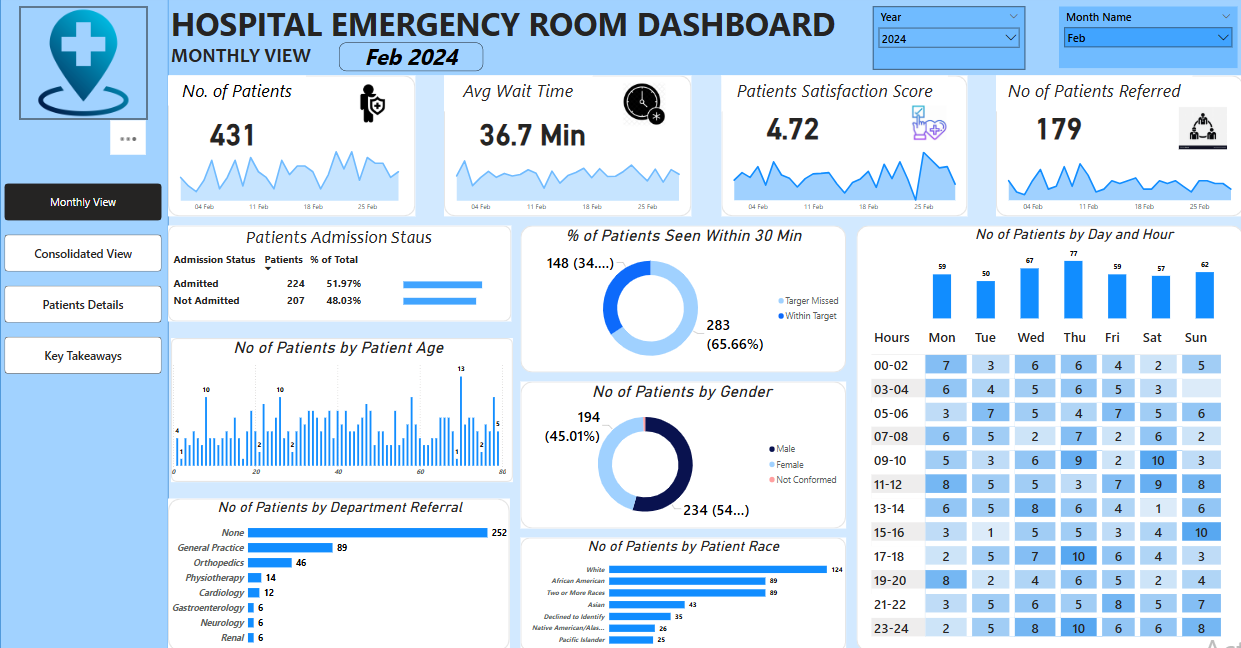

This screenshot's page, from the dashboard's own definition file:
{"tool":"powerbi","page":{"name":"Monthly View","canvas":[2300,1200],"ordinal":0},"visuals":[{"type":"shape","box":[10.2,0,310,1399],"z":0},{"type":"shape","box":[318.9,0,1980.9,140],"z":1000},{"type":"textbox","box":[318.9,0,1298,99.8],"z":2000},{"type":"textbox","box":[318.9,74.1,293.1,64.4],"z":3000},{"type":"slicer","fields":{"Values":["Date Table.Year"]},"box":[1616.9,12.9,280.2,116],"z":4000},{"type":"slicer","fields":{"Values":["Date Table.Month Name"]},"box":[1960.2,13.8,328.5,113.2],"z":5000},{"type":"shape","box":[320.3,140.8,455.5,259.5],"z":6000},{"type":"card","fields":{"Values":["Hospital ER_Data.No of Patients"]},"box":[356.1,207.1,168.4,71.8],"z":7000},{"type":"textbox","box":[320.3,140.8,254,55.2],"z":8000},{"type":"areaChart","fields":{"Y":["Hospital ER_Data.No of Patients"],"Category":["Date Table.Date"]},"box":[320.3,251.2,447.2,149.1],"z":9000},{"type":"card","fields":{"Values":["Min(Date Table.Month & Year)"]},"box":[635,80.1,265,52.5],"z":10000},{"type":"shape","box":[829.2,140.8,455.5,259.5],"z":11000},{"type":"card","fields":{"Values":["Hospital ER_Data.Avg Wait Time"]},"box":[880.7,207.1,220.9,71.8],"z":12000},{"type":"textbox","box":[828.2,140.8,273.3,66.3],"z":13000},{"type":"areaChart","fields":{"Category":["Date Table.Date"],"Y":["Avg(Hospital ER_Data.Patient Waittime)"]},"box":[828.2,270.6,455.5,129.8],"z":14000},{"type":"shape","box":[1338.1,140.8,452.8,259.5],"z":15000},{"type":"textbox","box":[1339,140.8,416.9,66.3],"z":16000},{"type":"areaChart","fields":{"Category":["Date Table.Date"],"Y":["Hospital ER_Data.Satisfaction Score"]},"box":[1339,267.8,452.8,132.5],"z":17000},{"type":"shape","box":[1844.2,140.8,455.5,259.5],"z":18000},{"type":"card","fields":{"Values":["Hospital ER_Data.No of Patients Referred"]},"box":[1874.6,196,168.4,71.8],"z":19000},{"type":"textbox","box":[1844.2,140.8,361.7,66.3],"z":20000},{"type":"areaChart","fields":{"Category":["Date Table.Date"],"Y":["Hospital ER_Data.No of Patients Referred"]},"box":[1844.2,278.8,455.5,121.5],"z":21000},{"type":"shape","box":[320.3,416.9,632.2,176.7],"z":22000},{"type":"card","fields":{"Values":["Avg(Hospital ER_Data.Patient Satisfaction Score)"]},"box":[1374.9,196,190.5,71.8],"z":23000},{"type":"pivotTable","title":"Patients Admission Staus","fields":{"Rows":["Hospital ER_Data.Admission Status"],"Values":["Hospital ER_Data.No of Patients1","Hospital ER_Data.No of Patients"]},"box":[320.3,416.9,629.5,176.7],"z":24000},{"type":"barChart","fields":{"Category":["Hospital ER_Data.Admission Status"],"Y":["Hospital ER_Data.No of Patients"]},"box":[748.2,491.4,204.3,93.9],"z":25000},{"type":"shape","box":[325.8,623.5,629.5,265],"z":26000},{"type":"clusteredColumnChart","fields":{"Category":["Hospital ER_Data.Patient Age"],"Y":["Hospital ER_Data.No of Patients"]},"box":[320.3,623.9,626.7,265],"z":27000},{"type":"shape","box":[320.3,918.4,629.5,281.6],"z":28000},{"type":"clusteredBarChart","fields":{"Category":["Hospital ER_Data.Department Referral"],"Y":["Hospital ER_Data.No of Patients"]},"box":[320.3,919.3,632.2,281.6],"z":29000},{"type":"shape","box":[969,416.9,599.1,270.6],"z":30000},{"type":"donutChart","title":"% of Patients Seen Within 30 Min","fields":{"Category":["Hospital ER_Data.Waittime Status"],"Y":["Hospital ER_Data.No of Patients"]},"box":[969,416.9,599.1,270.6],"z":31000},{"type":"shape","box":[969,704,599.1,270.6],"z":32000},{"type":"donutChart","title":"No of Patients by Gender","fields":{"Y":["Hospital ER_Data.No of Patients"],"Category":["Hospital ER_Data.Patient Gender"]},"box":[966.3,704,599.1,270.6],"z":33000},{"type":"shape","box":[969,990.2,599.1,209.8],"z":34000},{"type":"clusteredBarChart","fields":{"Y":["Hospital ER_Data.No of Patients"],"Category":["Hospital ER_Data.Patient Race"]},"box":[969,991.1,599.1,209.8],"z":35000},{"type":"shape","box":[1587.5,416.9,712.3,784.1],"z":36000},{"type":"pivotTable","fields":{"Rows":["Hospital ER_Data.Waittime Interval"],"Columns":["Date Table.Day Name"],"Values":["Hospital ER_Data.No of Patients"]},"box":[1609.5,599.1,668.1,585.3],"z":37000},{"type":"columnChart","title":"No of Patients by Day and Hour","fields":{"Category":["Date Table.Day Name"],"Y":["Hospital ER_Data.No of Patients"]},"box":[1722.7,416.9,530.1,176.7],"z":38000},{"type":"image","box":[646,151.8,102.1,80.1],"z":39000},{"type":"image","box":[1151.3,146.3,91.1,93.9],"z":40000},{"type":"image","box":[1684.1,187.7,74.5,80.1],"z":41000},{"type":"image","box":[2172.8,193.3,104.9,88.3],"z":42000},{"type":"image","box":[46.9,13.8,234.7,207.1],"z":43000},{"type":"pageNavigator","box":[19.3,339.6,289.9,350.6],"z":44000}]}

Visuals, with their boxes on the page's 2300x1200 design canvas (x1, y1, x2, y2). These are canvas units, not pixel positions in the 1241x648 screenshot, which may show the page scaled, cropped or inside an application window:
shape: rect(10, 0, 320, 1399)
shape: rect(319, 0, 2300, 140)
textbox: rect(319, 0, 1617, 100)
textbox: rect(319, 74, 612, 138)
slicer - Date Table.Year: rect(1617, 13, 1897, 129)
slicer - Date Table.Month Name: rect(1960, 14, 2289, 127)
shape: rect(320, 141, 776, 400)
card - Hospital ER_Data.No of Patients: rect(356, 207, 524, 279)
textbox: rect(320, 141, 574, 196)
areaChart - Hospital ER_Data.No of Patients x Date Table.Date: rect(320, 251, 768, 400)
card - Min(Date Table.Month & Year): rect(635, 80, 900, 133)
shape: rect(829, 141, 1285, 400)
card - Hospital ER_Data.Avg Wait Time: rect(881, 207, 1102, 279)
textbox: rect(828, 141, 1102, 207)
areaChart - Date Table.Date x Avg(Hospital ER_Data.Patient Waittime): rect(828, 271, 1284, 400)
shape: rect(1338, 141, 1791, 400)
textbox: rect(1339, 141, 1756, 207)
areaChart - Date Table.Date x Hospital ER_Data.Satisfaction Score: rect(1339, 268, 1792, 400)
shape: rect(1844, 141, 2300, 400)
card - Hospital ER_Data.No of Patients Referred: rect(1875, 196, 2043, 268)
textbox: rect(1844, 141, 2206, 207)
areaChart - Date Table.Date x Hospital ER_Data.No of Patients Referred: rect(1844, 279, 2300, 400)
shape: rect(320, 417, 952, 594)
card - Avg(Hospital ER_Data.Patient Satisfaction Score): rect(1375, 196, 1565, 268)
"Patients Admission Staus" pivotTable: rect(320, 417, 950, 594)
barChart - Hospital ER_Data.Admission Status x Hospital ER_Data.No of Patients: rect(748, 491, 952, 585)
shape: rect(326, 624, 955, 888)
clusteredColumnChart - Hospital ER_Data.Patient Age x Hospital ER_Data.No of Patients: rect(320, 624, 947, 889)
shape: rect(320, 918, 950, 1200)
clusteredBarChart - Hospital ER_Data.Department Referral x Hospital ER_Data.No of Patients: rect(320, 919, 952, 1201)
shape: rect(969, 417, 1568, 688)
"% of Patients Seen Within 30 Min" donutChart: rect(969, 417, 1568, 688)
shape: rect(969, 704, 1568, 975)
"No of Patients by Gender" donutChart: rect(966, 704, 1565, 975)
shape: rect(969, 990, 1568, 1200)
clusteredBarChart - Hospital ER_Data.No of Patients x Hospital ER_Data.Patient Race: rect(969, 991, 1568, 1201)
shape: rect(1588, 417, 2300, 1201)
pivotTable - Hospital ER_Data.Waittime Interval x Date Table.Day Name: rect(1610, 599, 2278, 1184)
"No of Patients by Day and Hour" columnChart: rect(1723, 417, 2253, 594)
image: rect(646, 152, 748, 232)
image: rect(1151, 146, 1242, 240)
image: rect(1684, 188, 1759, 268)
image: rect(2173, 193, 2278, 282)
image: rect(47, 14, 282, 221)
pageNavigator: rect(19, 340, 309, 690)
